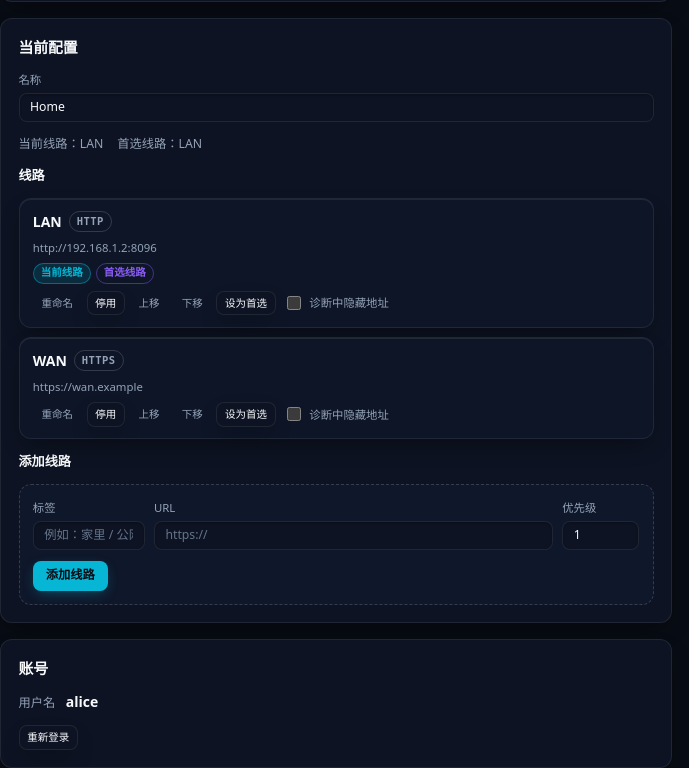
ServerSettingsView › shows mismatch without saving and applies a manually preferred line
(page scrolled)
Click the button with test id "add-line": x=70, y=576 [33,561,108,591]
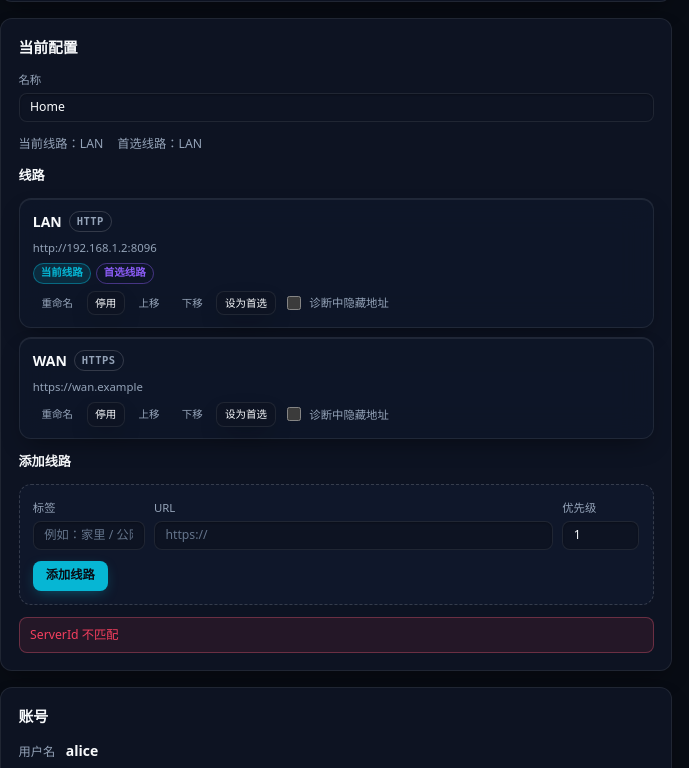
Expected: the text "ServerId 不匹配" is shown, [18,618,654,653]
Click the button with test id "prefer-line-2": x=246, y=414 [216,402,276,426]
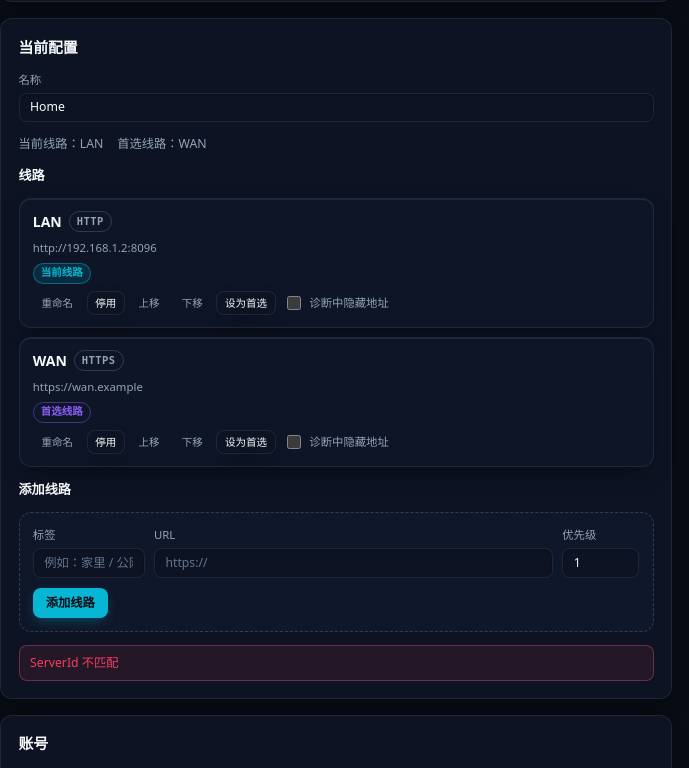
Expected: the element with test id "active-line" shows "WAN", [117,135,207,152]
